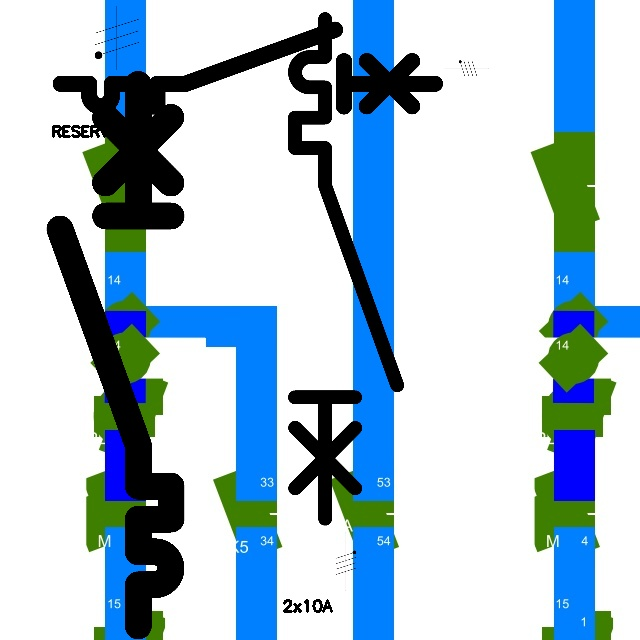interruptor_termomagnetico: (46, 70, 185, 640), (282, 6, 410, 531), (51, 20, 444, 116)
